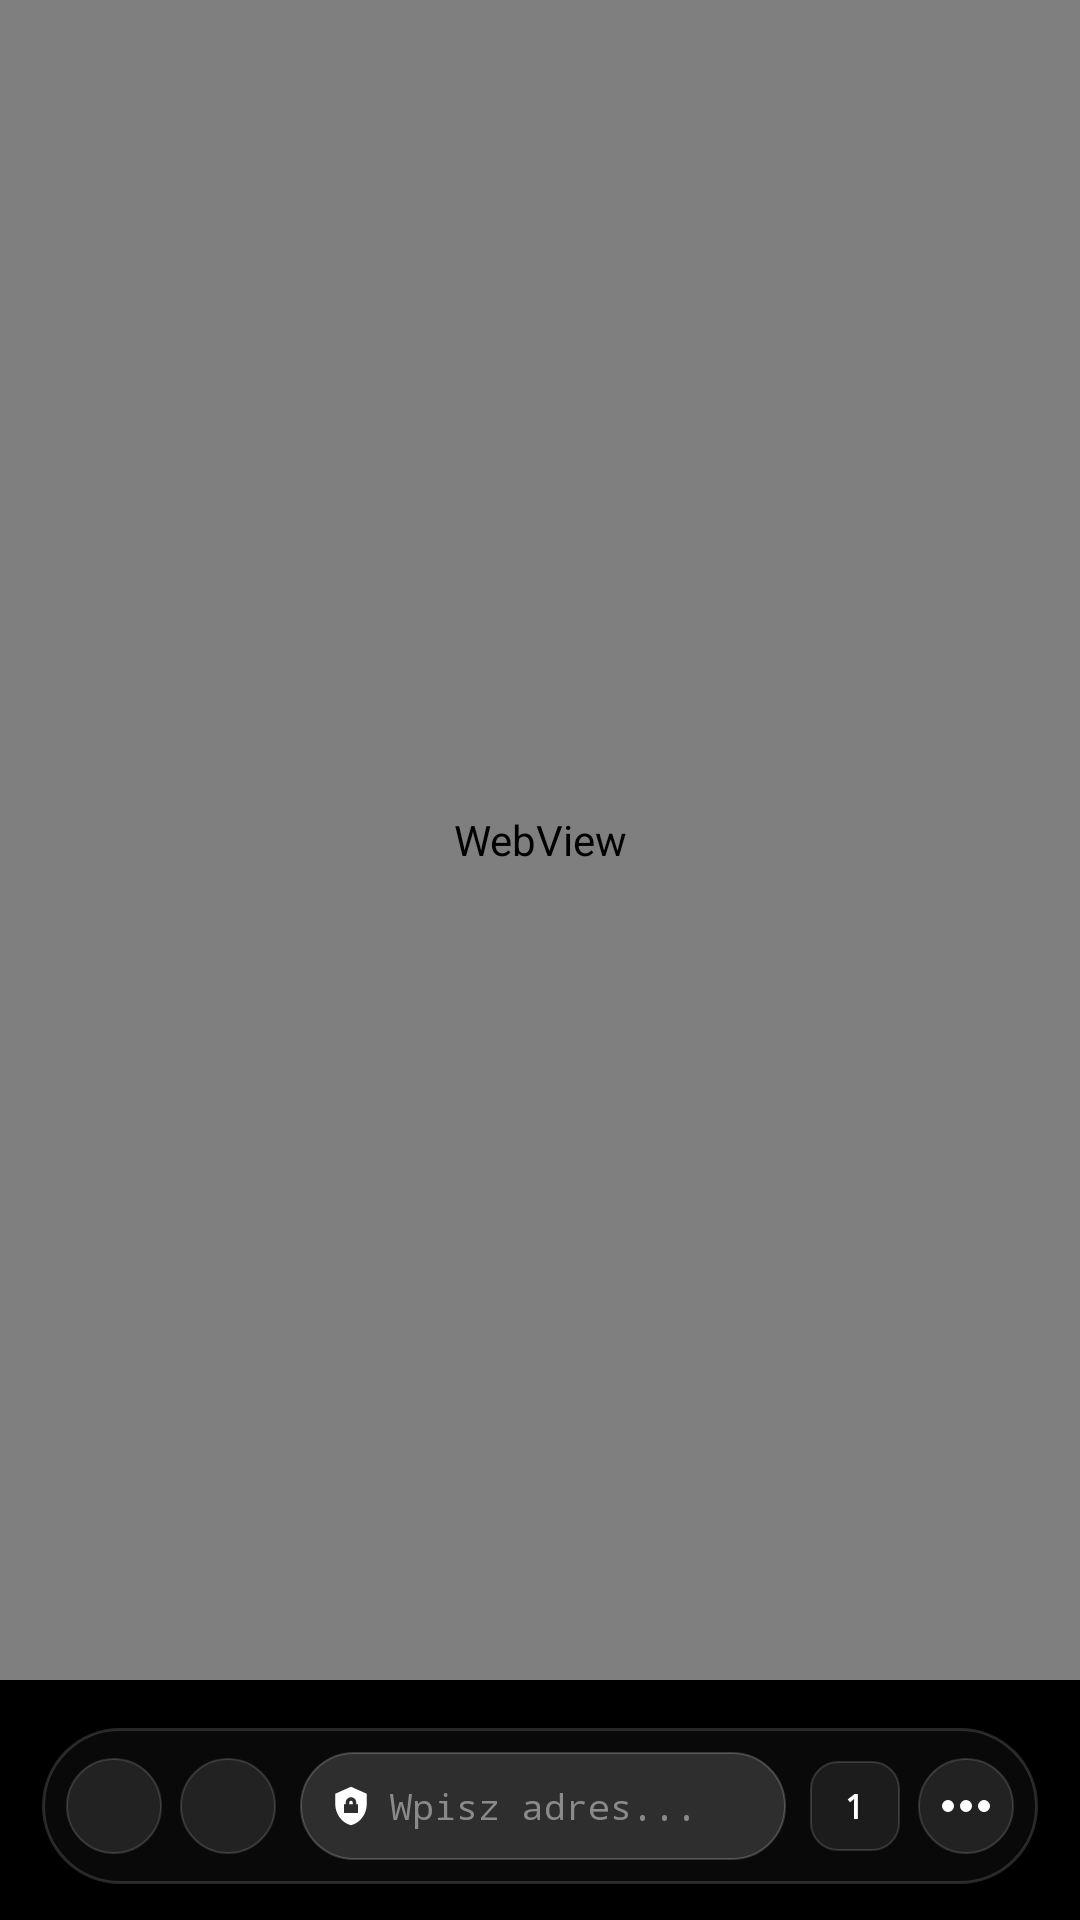

Point at icon controls on the screen. Image size 1080 × 1920, points as (x,y).
lock shield: (351,1806)
